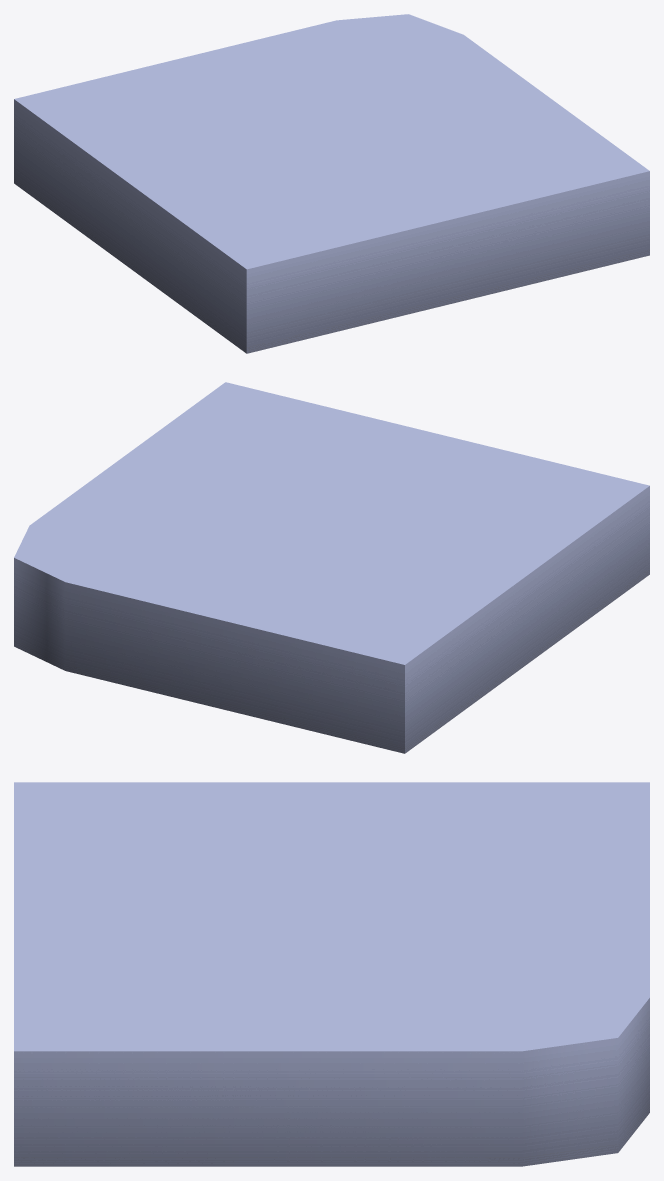
The model's file is floor-thick-corner-rounded.glb.
3 renders of one model, top to bottom at view 1: azimuth 30°, elevation 25°; view 2: azimuth 150°, elevation 25°; view 3: azimuth 270°, elevation 25°, orthographic. The views are drawn at different scales.
Parts seen in each view (by area): view 1: floor-thick-corner-rounded; view 2: floor-thick-corner-rounded; view 3: floor-thick-corner-rounded.
Boxes of the visible parts, x1,y1,x2,y2 form: floor-thick-corner-rounded: (14, 14, 649, 353); floor-thick-corner-rounded: (14, 382, 649, 753); floor-thick-corner-rounded: (14, 782, 649, 1166).
Bounding box in the file's own units: 1 × 0.2 × 1.
1 material, 1 textured.
